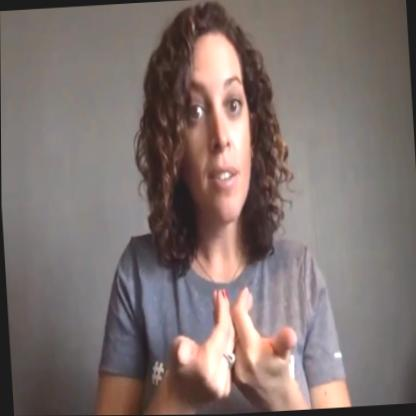HowAreYou: (167, 271, 316, 415)
